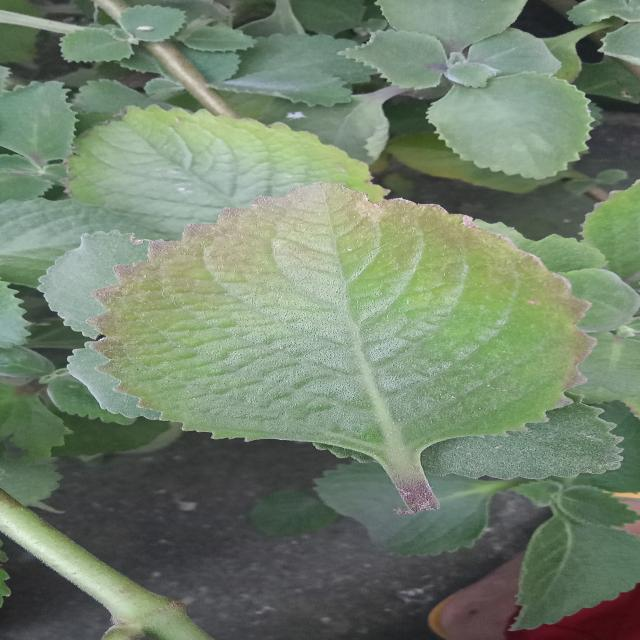Oregano: (66, 179, 623, 523)
